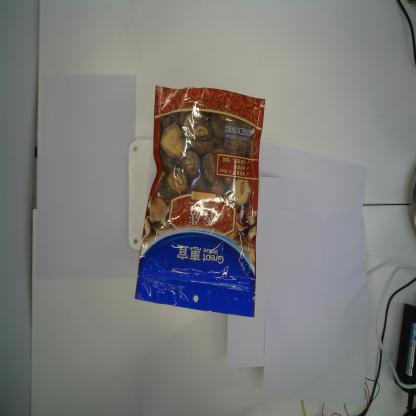Dried Food: (134, 84, 267, 318)
